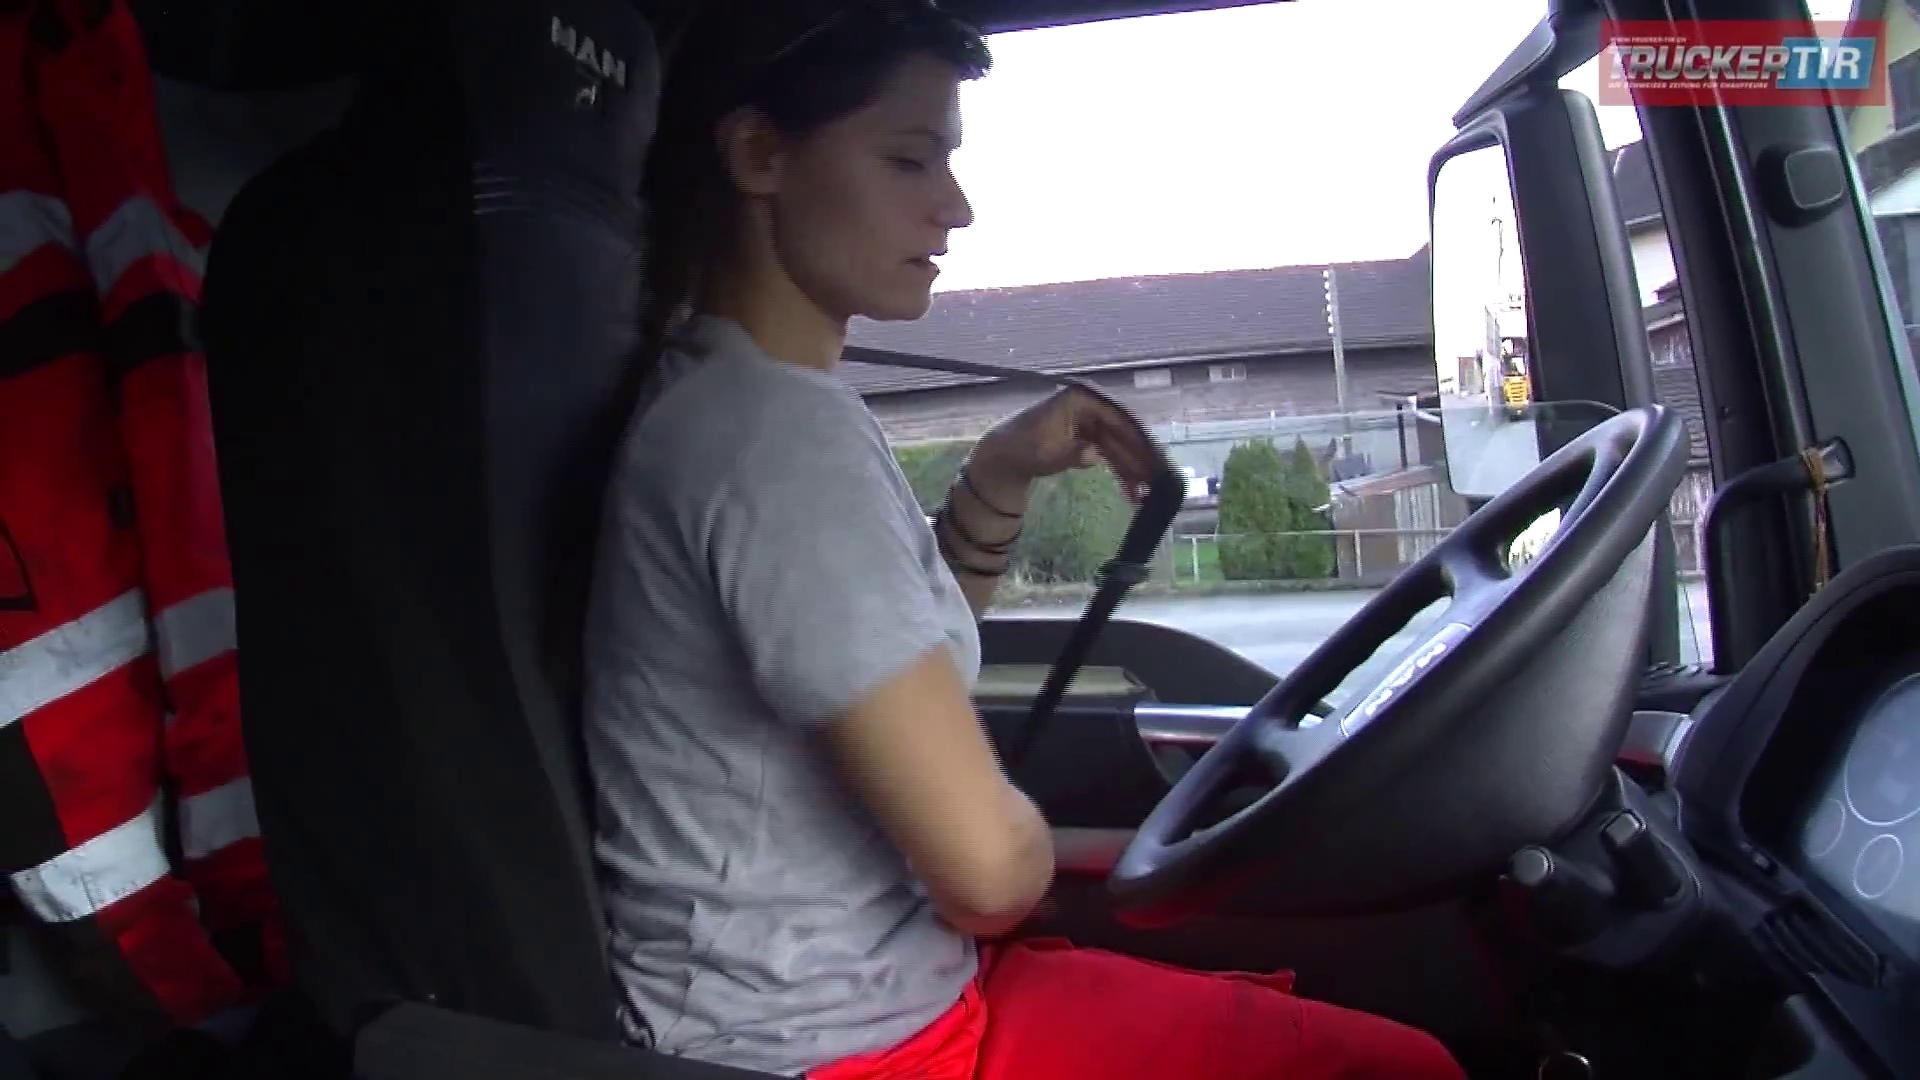person: (581, 1, 1462, 1080)
